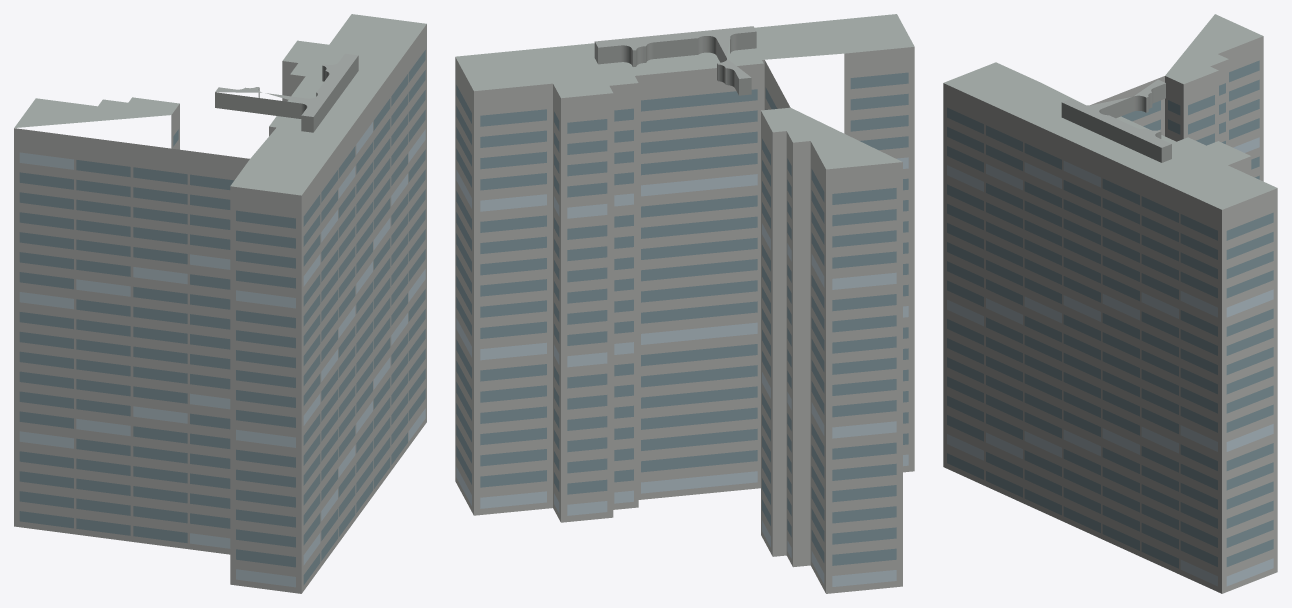
Rendered from fallback-gaepo-xi-presidence-410.glb.
The picture shows the model from 3 angles, left to right: view 1: azimuth 30°, elevation 25°; view 2: azimuth 150°, elevation 25°; view 3: azimuth 270°, elevation 25°; orthographic projection. The views are drawn at different scales.
Parts seen in each view (by area): view 1: fallback-gaepo-xi-presidence-410; view 2: fallback-gaepo-xi-presidence-410; view 3: fallback-gaepo-xi-presidence-410.
Boxes of the visible parts, x1,y1,x2,y2 form: fallback-gaepo-xi-presidence-410: (14,14,426,593); fallback-gaepo-xi-presidence-410: (455,14,914,593); fallback-gaepo-xi-presidence-410: (943,14,1277,593).
Bounding box in the file's own units: 66.74 × 63.4 × 48.17.
